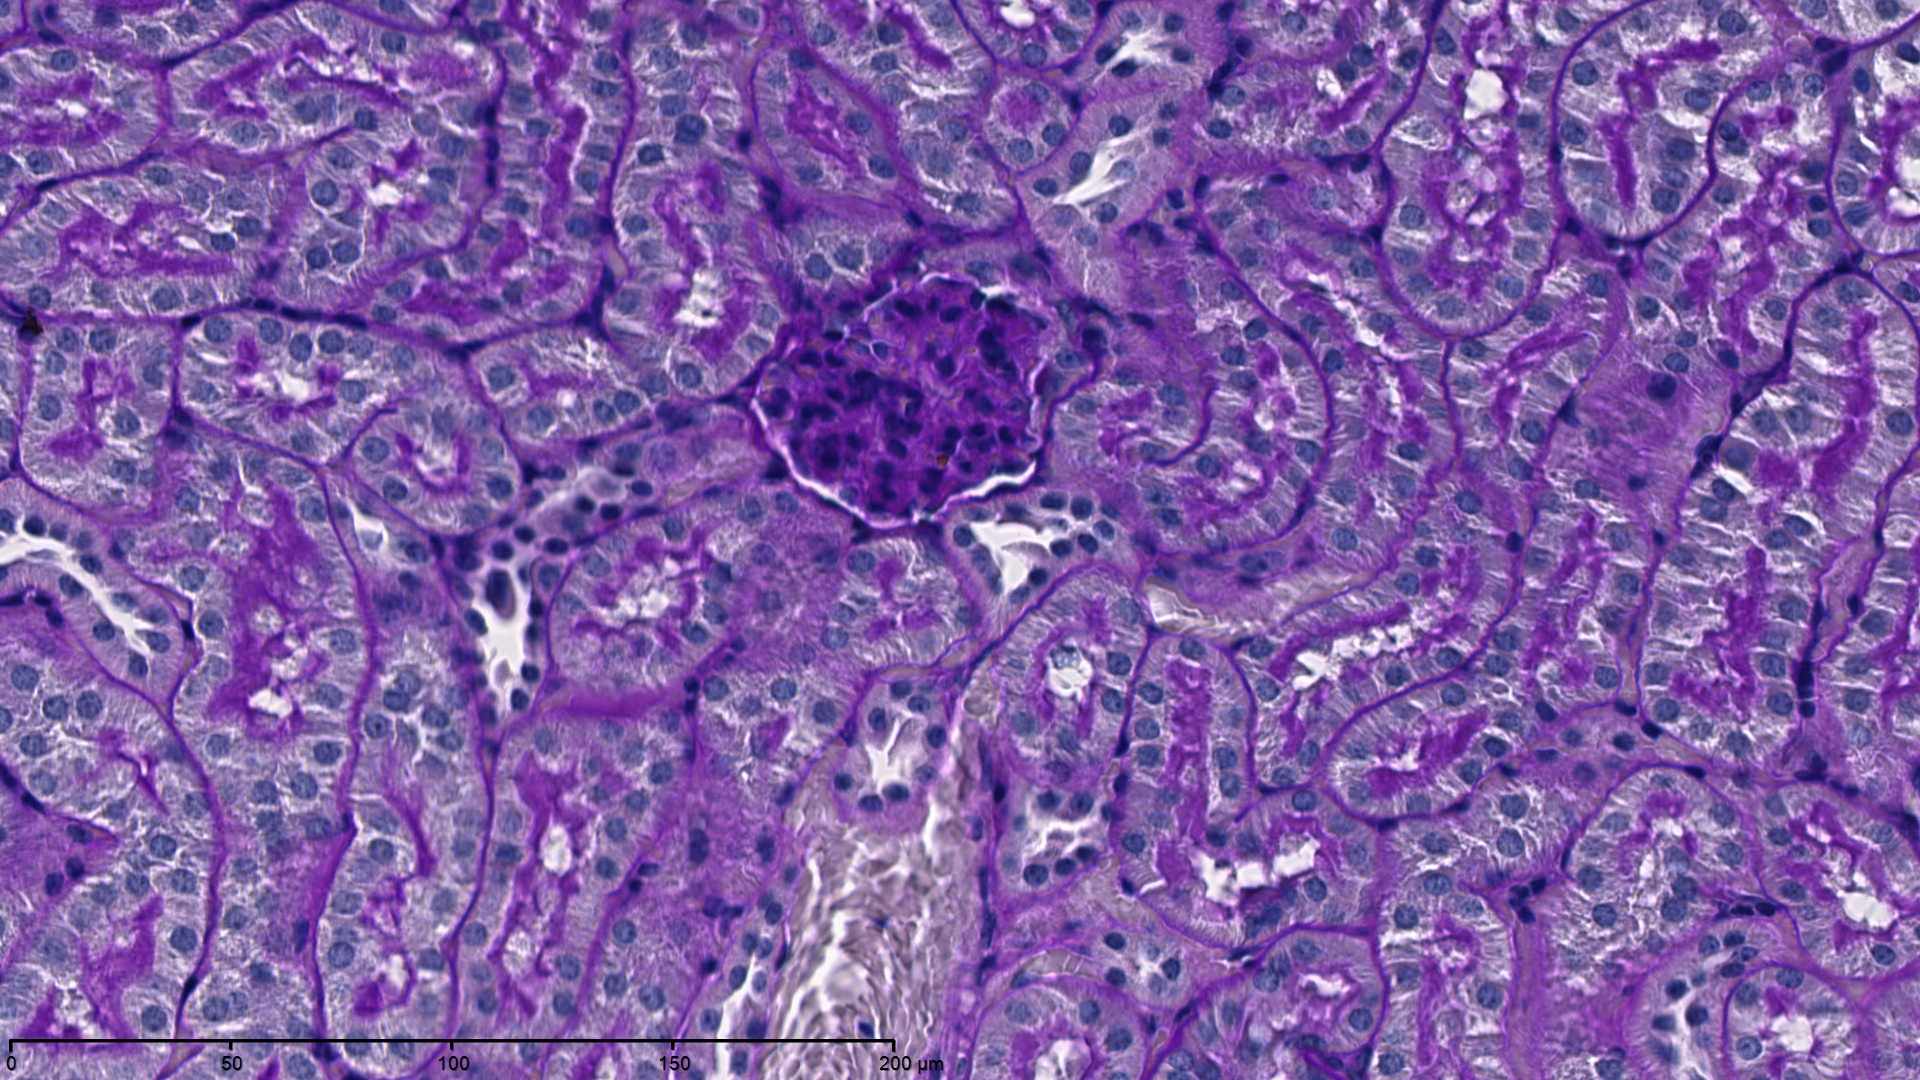Glomeruli: (725, 262, 1075, 538)
